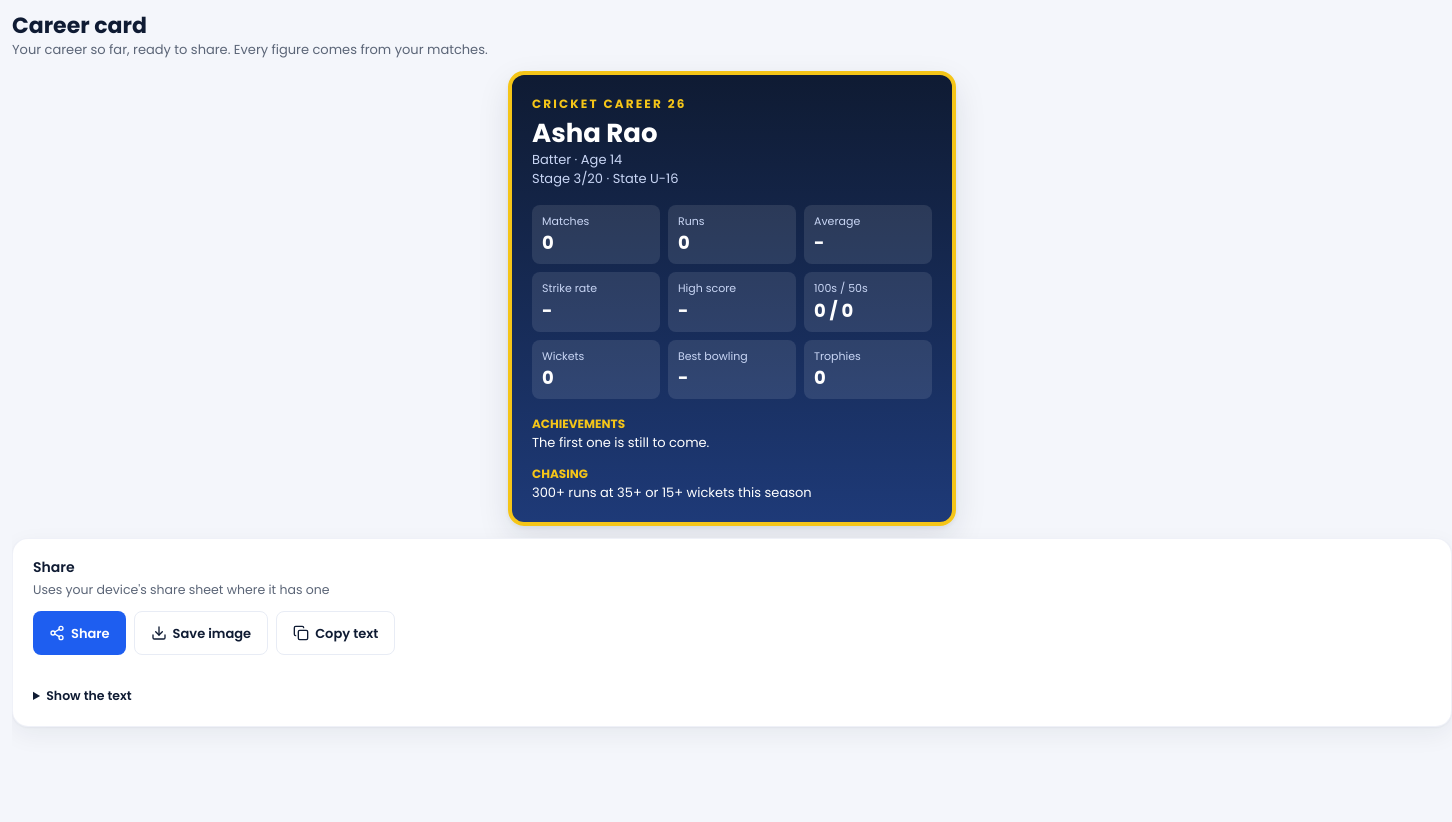
Scenario: career card › the screen shows the card and an honest status
Check: the element named "Career card" shows "Asha Rao", box [532,115,658,151]
Click the button "Copy text": coordinates (336, 633) [276,611,395,655]
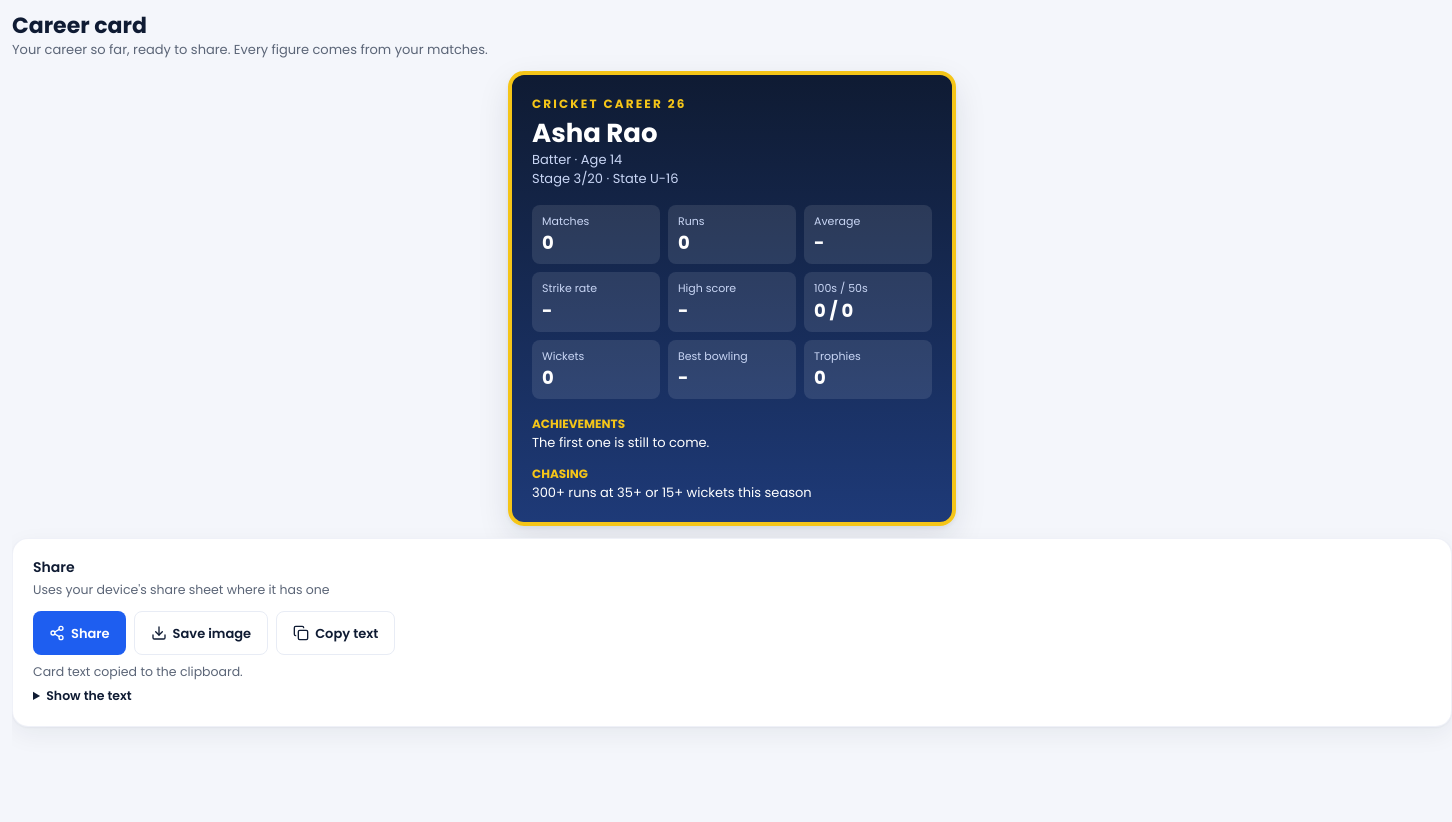
Check: the message shows "copied", box [33,663,243,680]
